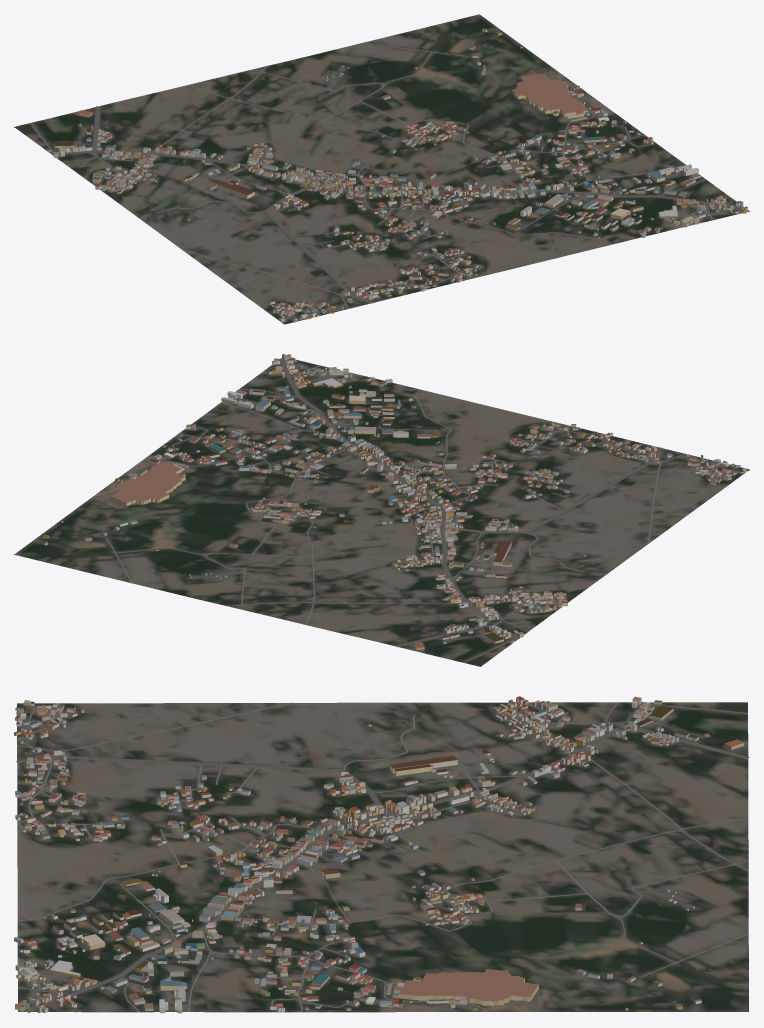
The picture shows the model from 3 angles, top to bottom: view 1: azimuth 30°, elevation 25°; view 2: azimuth 150°, elevation 25°; view 3: azimuth 270°, elevation 25°; orthographic projection. The views are drawn at different scales.
Parts seen in each view (by area): view 1: ground, buildings, roads; view 2: ground, buildings, roads; view 3: ground, buildings, roads.
Part boxes in pixels (x1,y1,x2,y2): ground: (14, 14, 749, 324); buildings: (46, 28, 747, 322); roads: (30, 43, 744, 317); ground: (14, 358, 749, 666); buildings: (42, 354, 746, 649); roads: (106, 358, 733, 662); ground: (17, 702, 748, 1012); buildings: (14, 696, 743, 1013); roads: (16, 702, 749, 1012).
Bounding box in the file's own units: 1413 × 23.31 × 1411.
